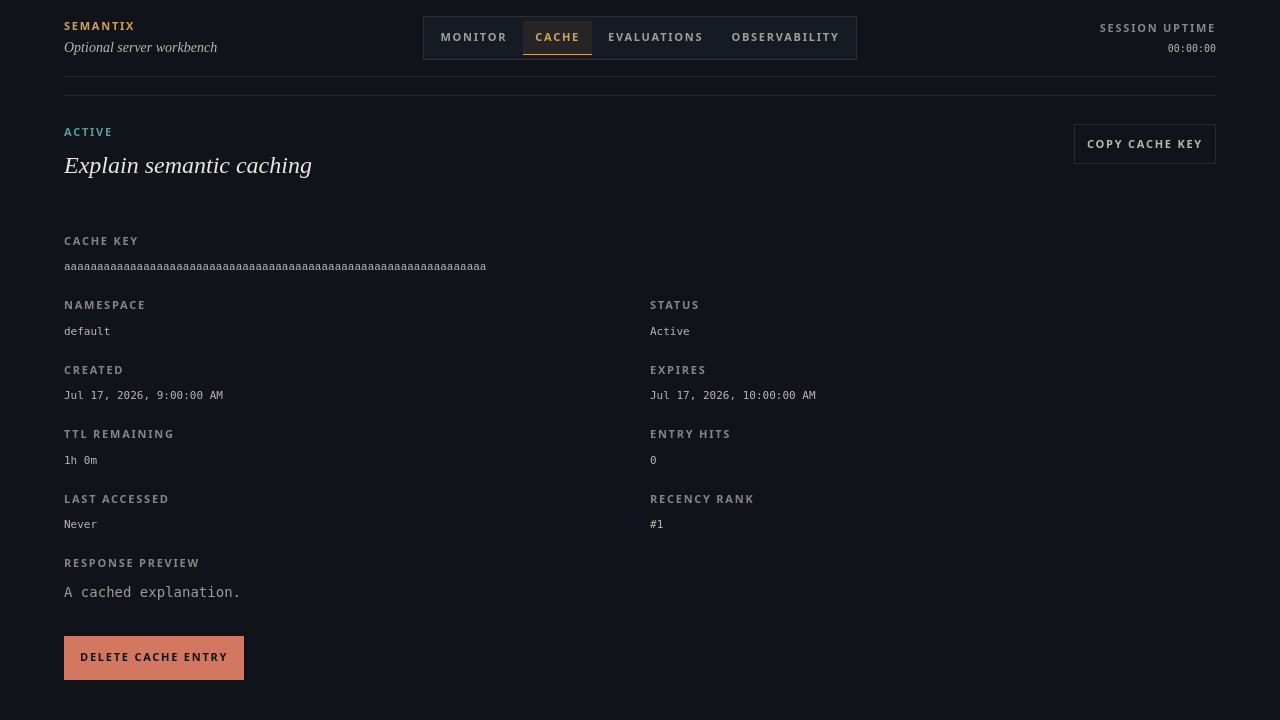
application routing › deletes as an Admin-capable principal and returns to Cache
(page scrolled)
expect the heading "Explain semantic caching" is shown: met, box x1=64 y1=148 x2=312 y2=180
Click the button "Delete cache entry".
click(154, 658)  # box x1=64 y1=636 x2=244 y2=680
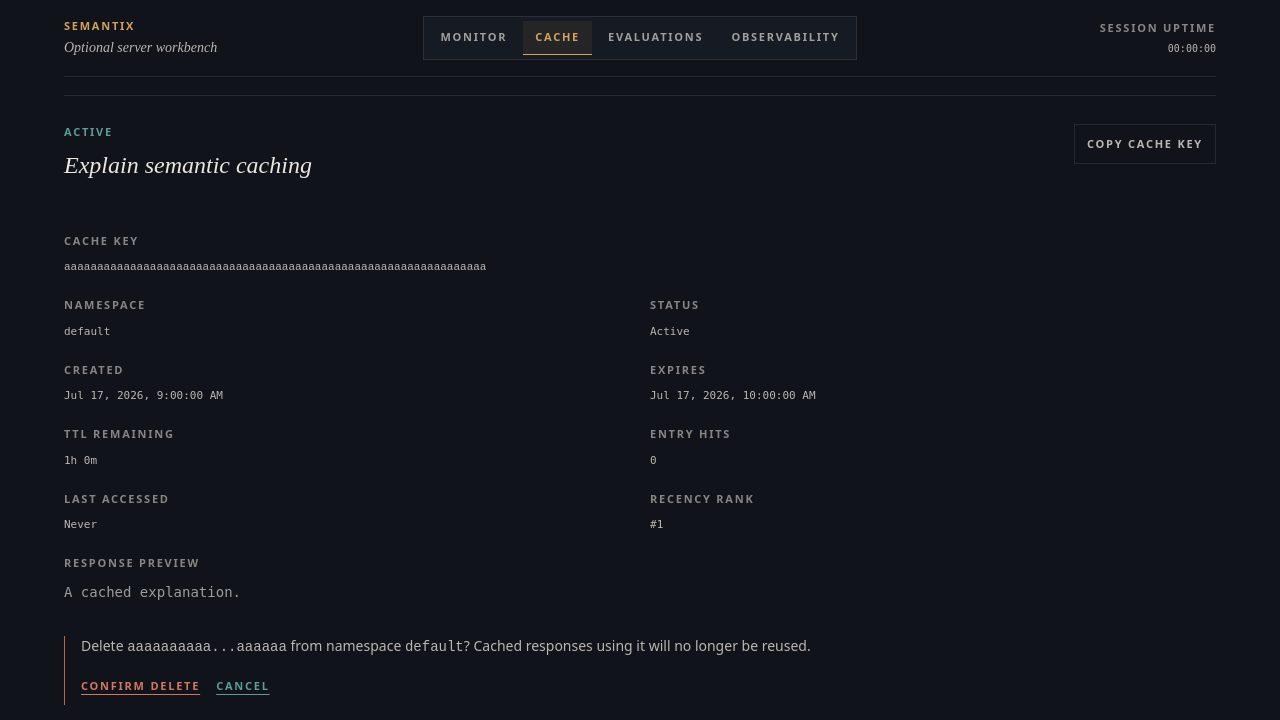
expect the element named "Confirm deletion of cache entry" is shown: met, box x1=64 y1=636 x2=1216 y2=704
Click the button "Confirm delete".
click(141, 686)  # box x1=81 y1=668 x2=200 y2=704
(page scrolled)
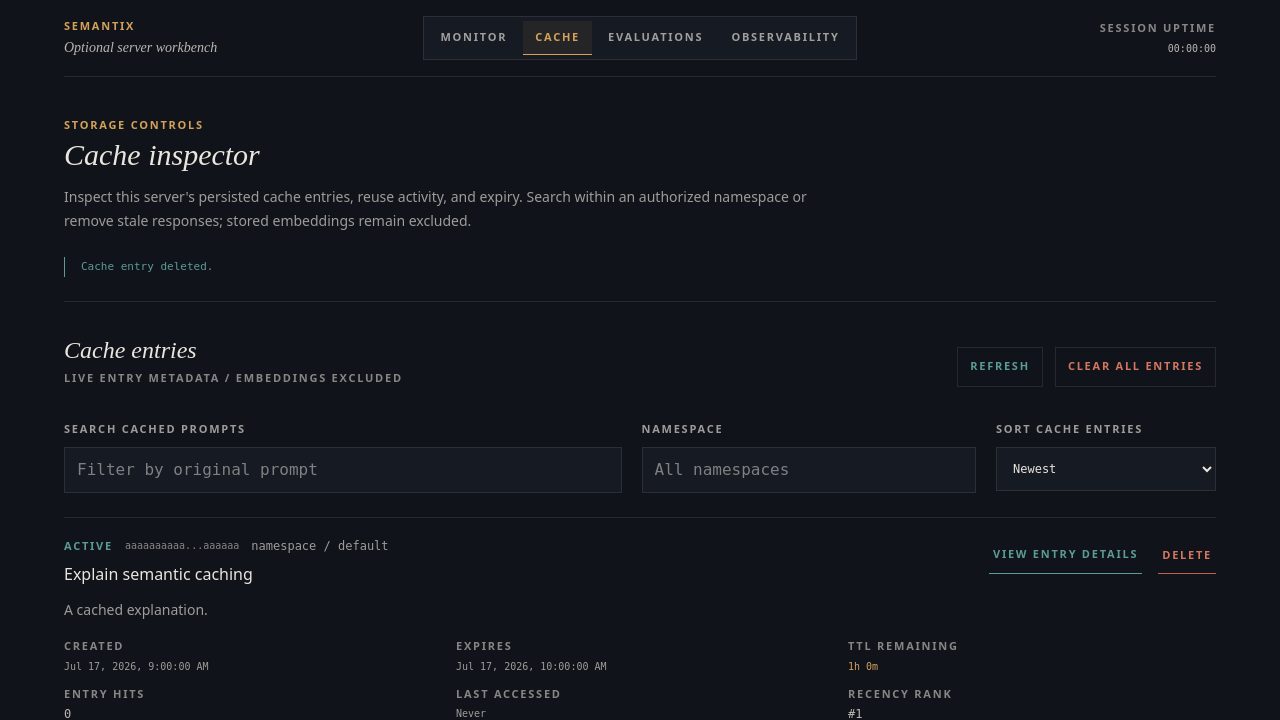
expect the heading "Cache inspector" is shown: met, box x1=64 y1=138 x2=260 y2=171
expect the text "Cache entry deleted." is shown: met, box x1=81 y1=260 x2=214 y2=273
